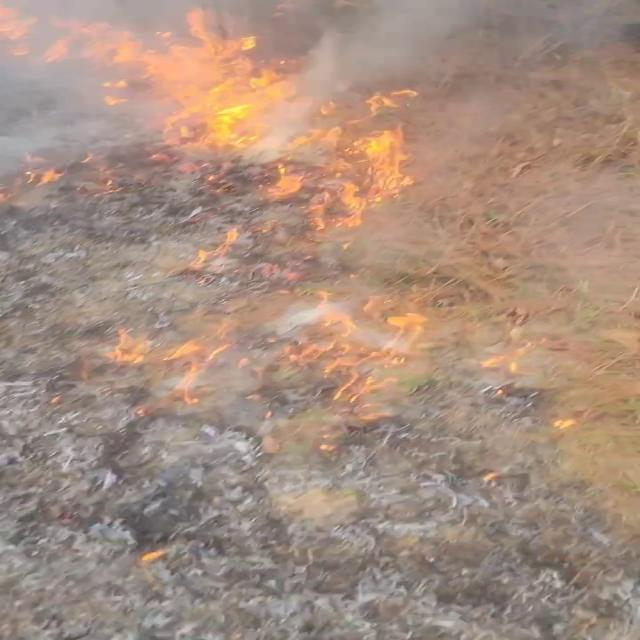Fire: (76, 0, 432, 264)
